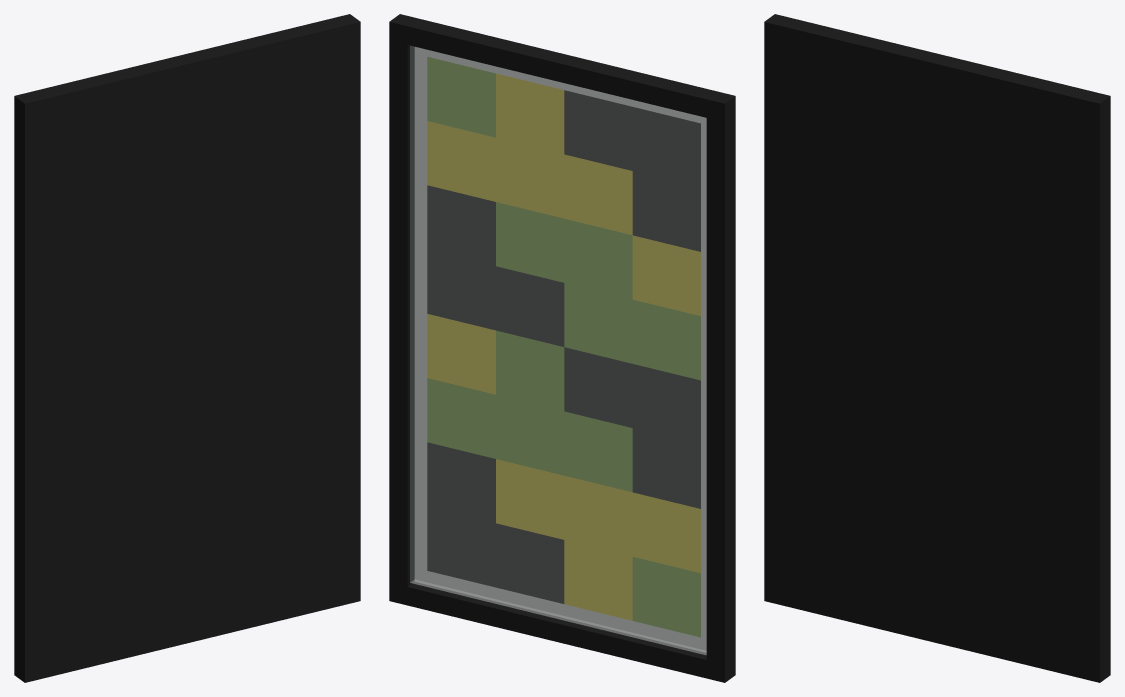
The model's file is paint4.fbx.
3 views of the same model, side by side, from view 1: azimuth 30°, elevation 25°; view 2: azimuth 150°, elevation 25°; view 3: azimuth 330°, elevation 25° (orthographic).
Visible parts, largest first — view 1: Node; view 2: Node; view 3: Node.
Part boxes in pixels (bbox=[...]): Node: bbox=[14, 14, 360, 682]; Node: bbox=[389, 14, 735, 682]; Node: bbox=[764, 14, 1110, 682].
Size of the model in its own units: 54 by 89 by 3.
